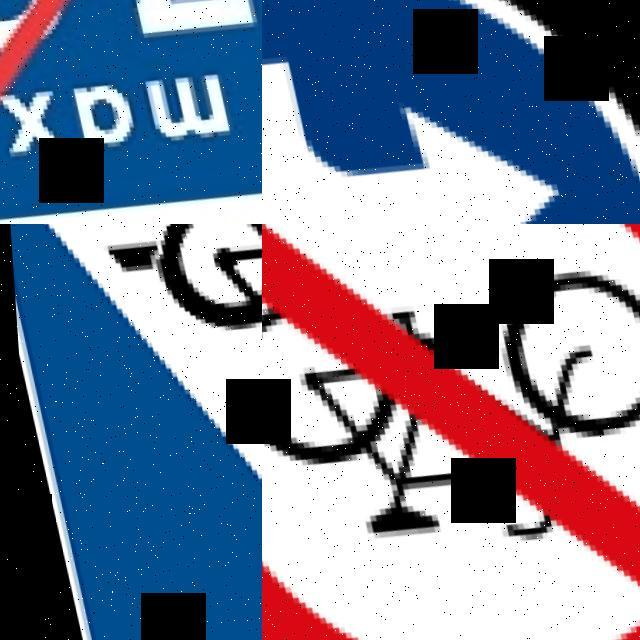103: (0, 0, 262, 224)
19: (0, 224, 262, 640)
No entry for bicycles: (262, 224, 640, 640)
Turn left or straight ahead: (262, 0, 640, 224)
